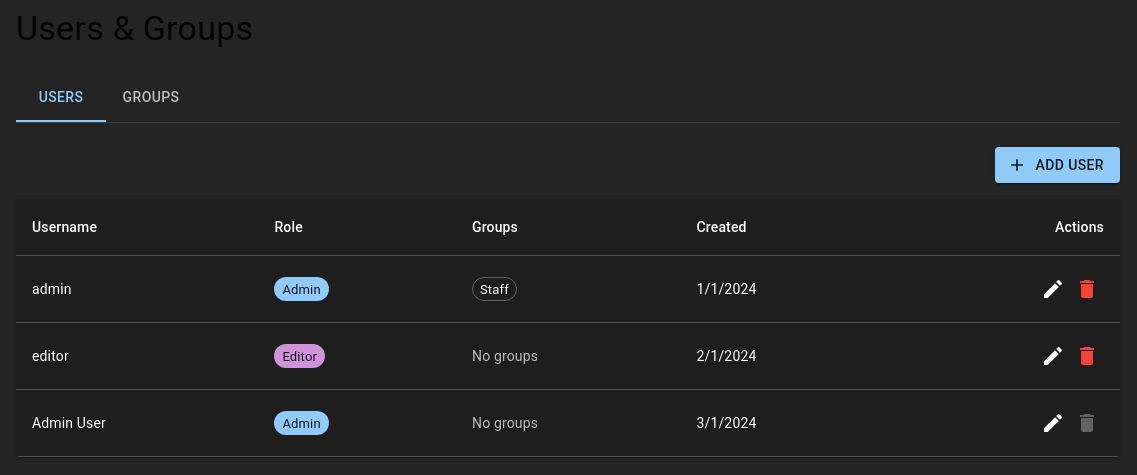
Scenario: UsersPage › group operations › shows error when group delete fails
Click the tab "Groups". click: click(151, 98)
box: [106,74,196,122]
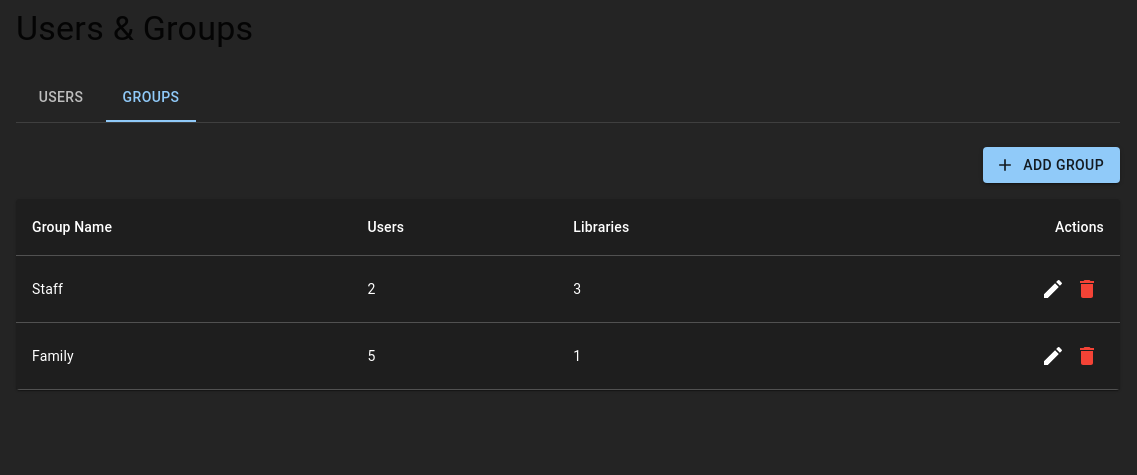
Click the button with test id "DeleteIcon". click: click(1087, 290)
box: [1070,272,1104,306]
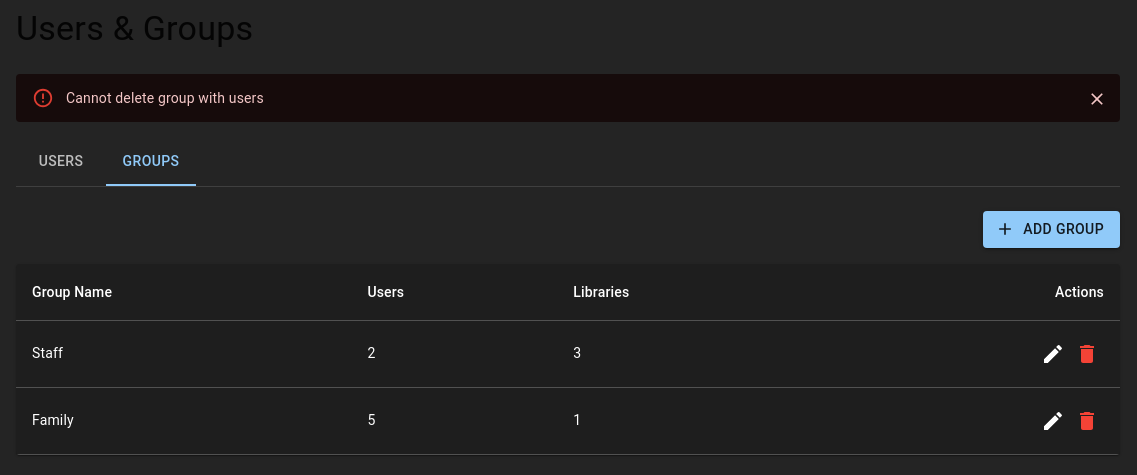
Now the text "Cannot delete group with users" is shown, box [66,90,264,106]
